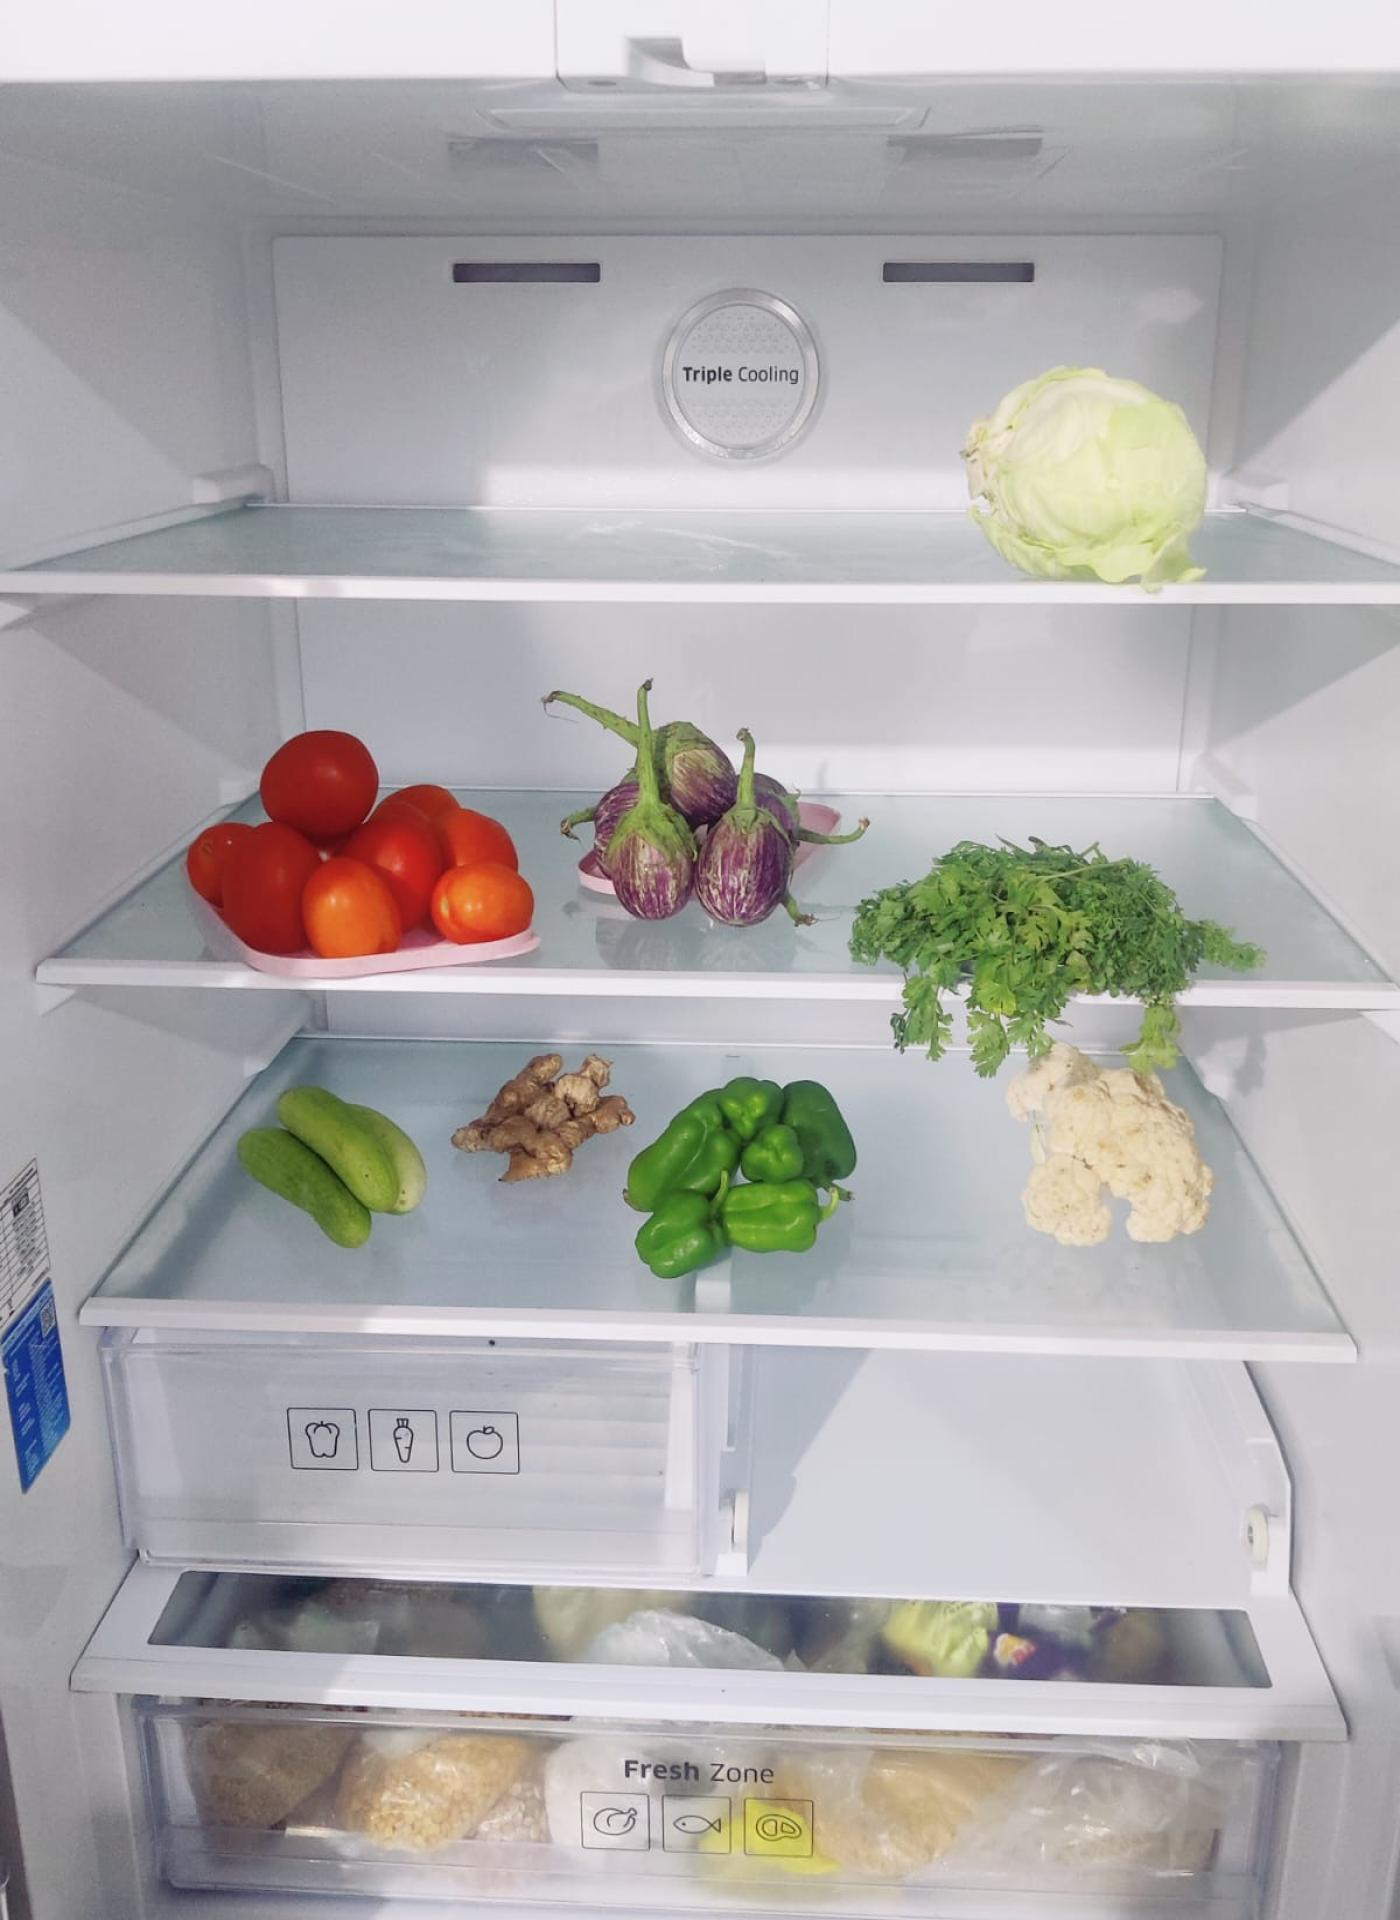brinjal: (598, 727, 808, 930)
cabbage: (966, 371, 1209, 586)
capsicum: (629, 1081, 854, 1273)
cauliflower: (1017, 1039, 1215, 1239)
coriander: (856, 848, 1255, 1027)
cucumber: (233, 1082, 429, 1245)
ginger: (452, 1046, 634, 1178)
tomato: (189, 729, 532, 956)
